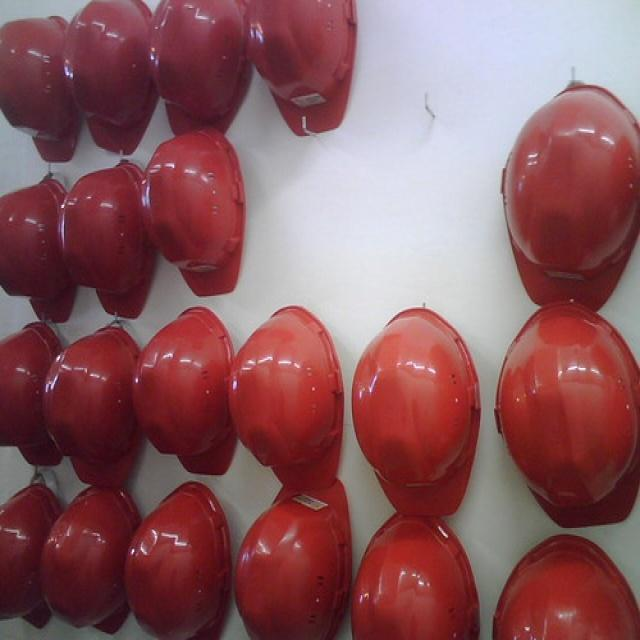helmet: (501, 93, 639, 435), (495, 399, 637, 640), (348, 409, 482, 640), (228, 404, 344, 640), (133, 406, 241, 626), (144, 171, 243, 401), (48, 427, 143, 636), (60, 214, 150, 434), (245, 1, 355, 176), (65, 4, 151, 209), (0, 4, 78, 228), (150, 2, 252, 170), (1, 229, 70, 439), (1, 427, 65, 625), (230, 631, 352, 640), (43, 633, 144, 640)
